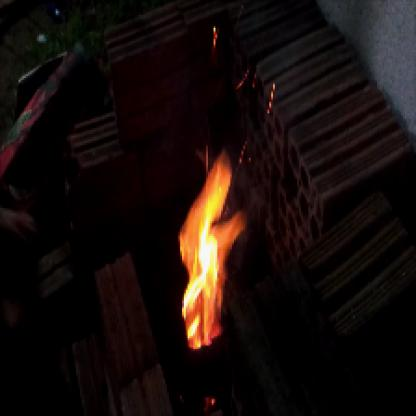Fire: (173, 145, 256, 351)
